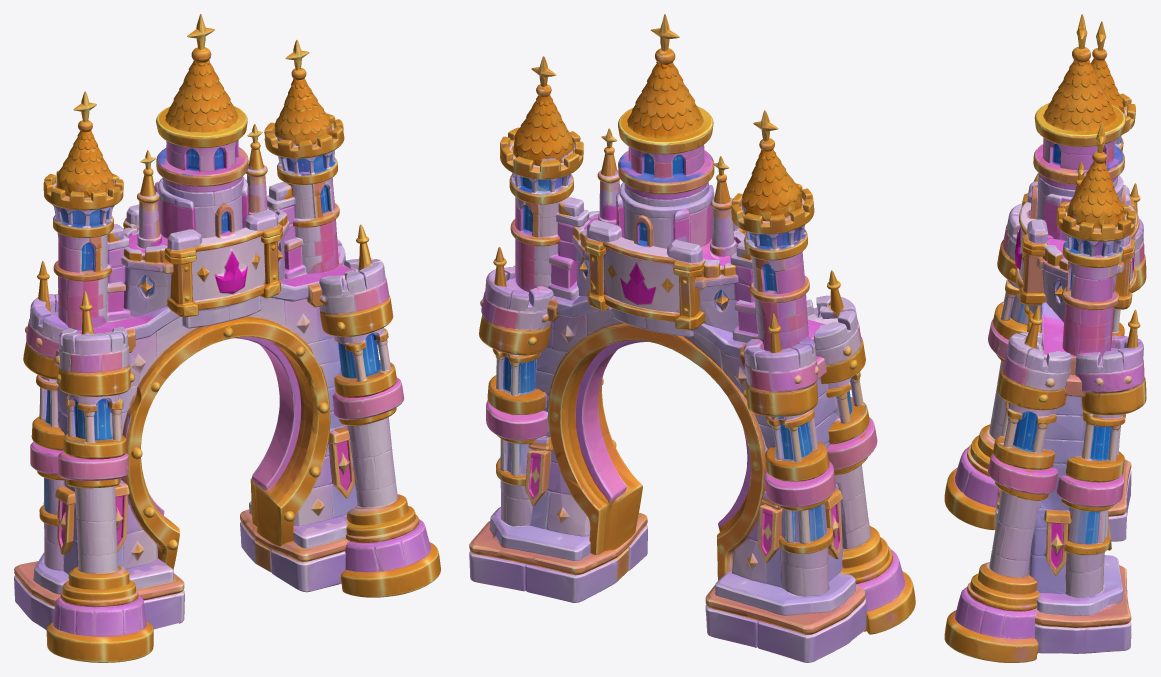
The model's file is BubbleWashCastle.glb.
3 renders of one model, left to right at view 1: azimuth 30°, elevation 25°; view 2: azimuth 150°, elevation 25°; view 3: azimuth 270°, elevation 25°, orthographic. The views are drawn at different scales.
Visible parts, largest first — view 1: output_unwrapped; view 2: output_unwrapped; view 3: output_unwrapped.
Boxes of the visible parts, left/top/right/bottom form: output_unwrapped: left=14, top=14, right=440, bottom=662; output_unwrapped: left=469, top=14, right=915, bottom=662; output_unwrapped: left=944, top=14, right=1146, bottom=662.
Size of the model in its own units: 1.33 by 1.9 by 0.6175.
1 material, 1 textured.
